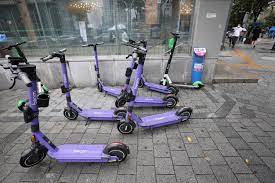kick_body: (53, 141, 101, 162), (141, 112, 178, 128), (83, 108, 114, 121), (136, 98, 164, 106), (104, 86, 119, 94), (173, 83, 192, 88)
kick_handler: (6, 55, 35, 84), (41, 48, 67, 59), (3, 41, 27, 49), (83, 42, 104, 48)
kick_neck: (27, 88, 47, 138), (58, 62, 73, 101), (165, 39, 177, 73), (92, 51, 102, 80)
kick_wheel: (20, 145, 46, 167), (104, 141, 129, 163), (115, 118, 137, 133), (179, 106, 194, 122), (62, 106, 79, 120), (165, 95, 176, 107), (194, 81, 202, 89)
